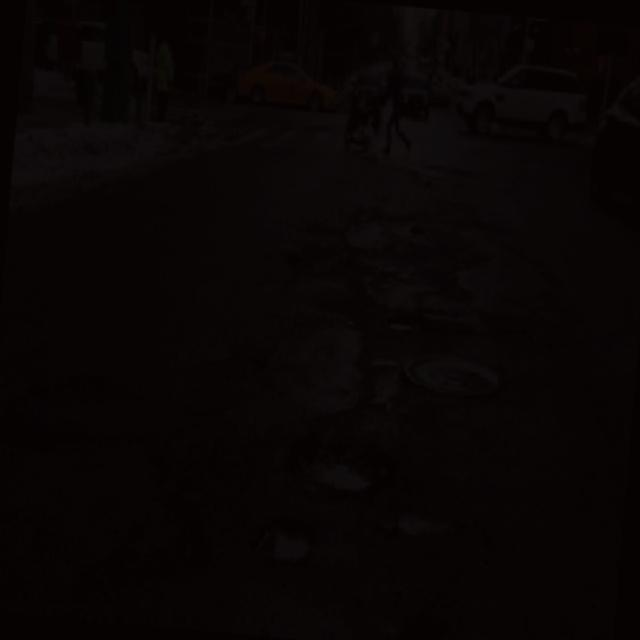Pothole: (72, 469, 218, 617), (447, 212, 569, 330), (250, 308, 368, 417), (24, 370, 160, 442), (286, 430, 406, 500), (378, 260, 472, 331), (290, 224, 352, 302), (382, 502, 472, 543), (270, 514, 320, 578), (347, 208, 427, 248), (377, 596, 448, 640)
